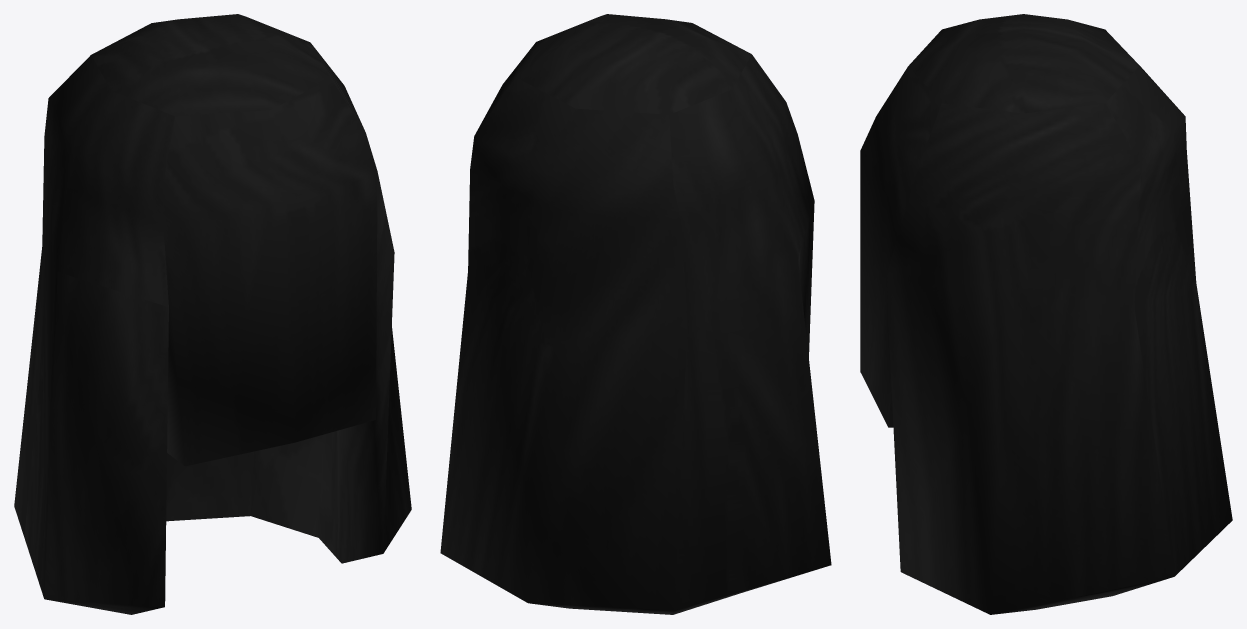
Rendered from five_dollar_milkshake.glb.
The picture shows the model from 3 angles, left to right: view 1: azimuth 30°, elevation 25°; view 2: azimuth 150°, elevation 25°; view 3: azimuth 270°, elevation 25°; orthographic projection. The views are drawn at different scales.
Visible parts, largest first — view 1: Five-Dollar Milkshake; view 2: Five-Dollar Milkshake; view 3: Five-Dollar Milkshake.
Part boxes in pixels (x1,y1,x2,y2): Five-Dollar Milkshake: (14, 14, 411, 614); Five-Dollar Milkshake: (440, 14, 831, 614); Five-Dollar Milkshake: (860, 14, 1232, 614).
Size of the model in its own units: 0.2964 by 0.4131 by 0.2679.
1 material, 1 textured.
